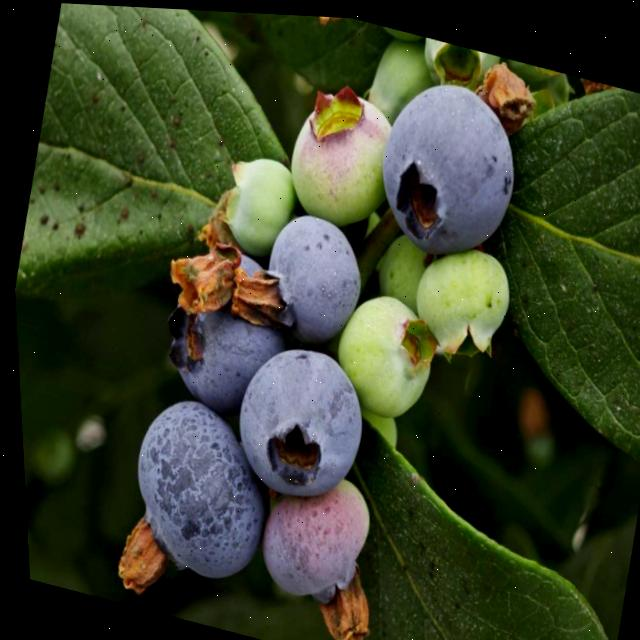RipeBlueBerry: (361, 63, 534, 268), (107, 388, 279, 594), (218, 329, 373, 503), (250, 203, 370, 349)
